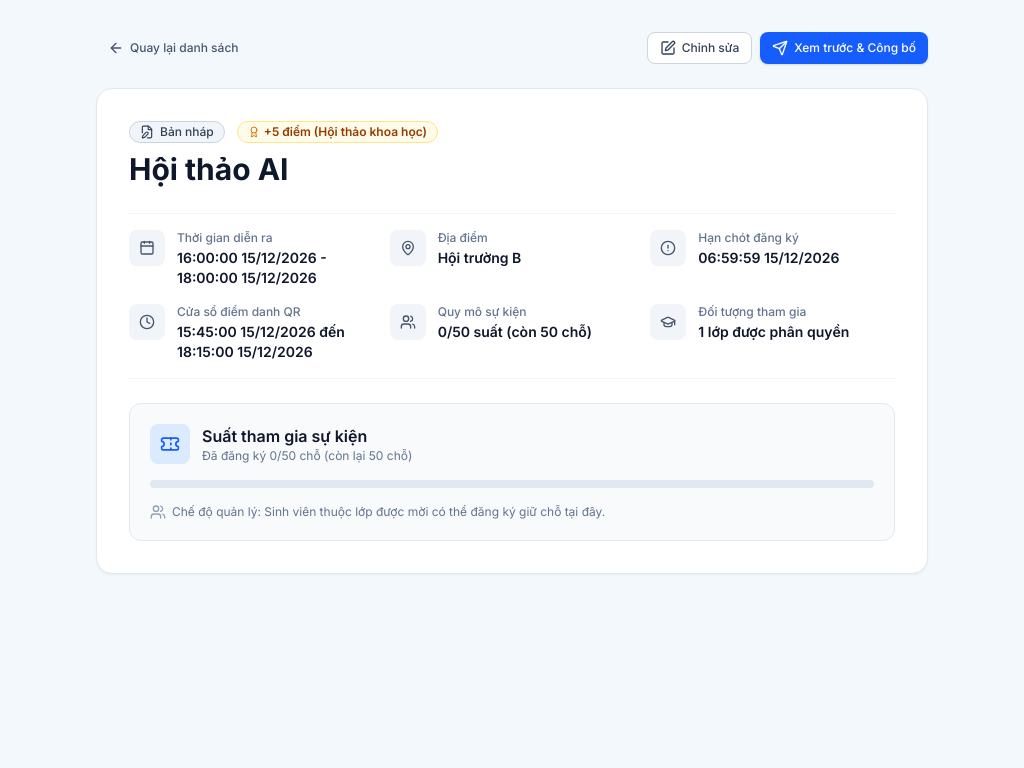
Test: EventDetailPage publish flow [QE-65] › shows "Bản xem trước đã cũ do có sự thay đổi. Vui lòng xem trước lại." when publish is rejected with PREVIEW_OUTDATED
This screenshot has width=1024, height=768.
Click the button "Xem trước & Công bố" at x=844, y=48, box x1=760 y1=32 x2=928 y2=64
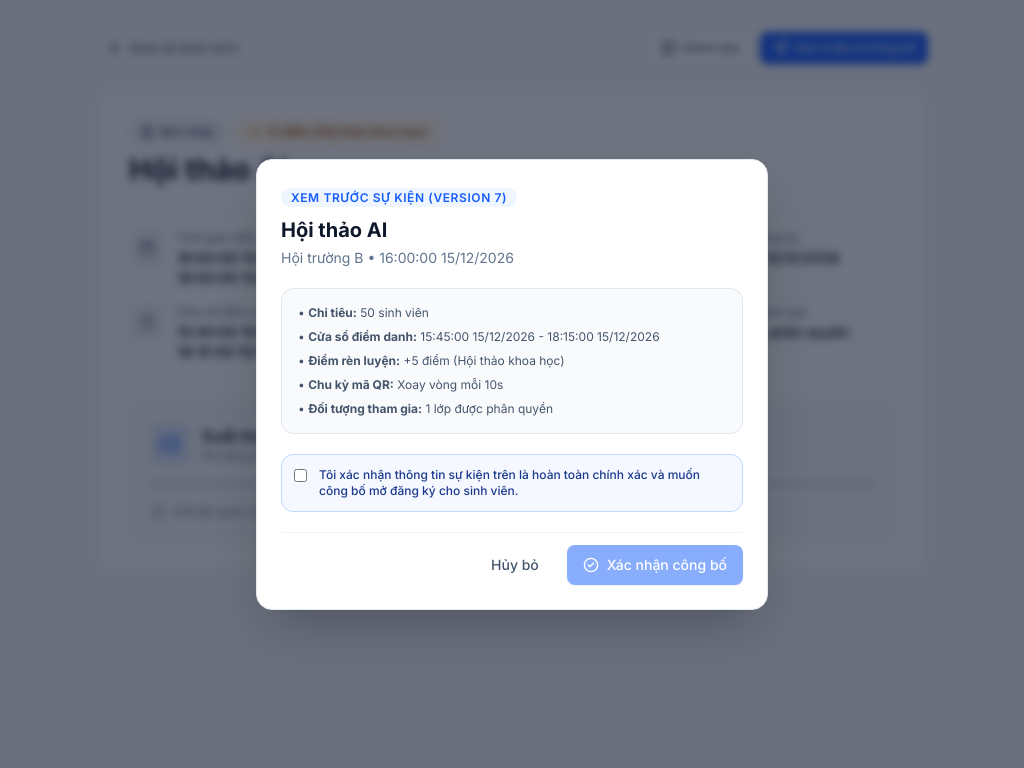
Click the checkbox at x=300, y=475, box x1=294 y1=468 x2=307 y2=482
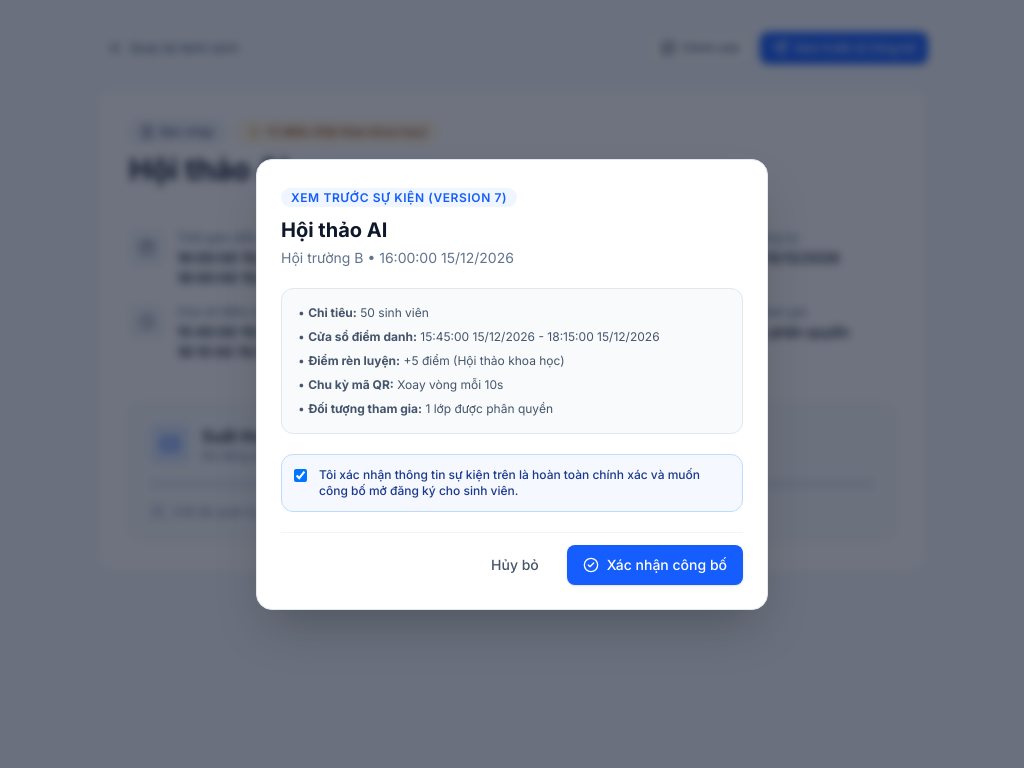
Click the button "Xác nhận công bố" at x=655, y=564, box x1=567 y1=544 x2=743 y2=584
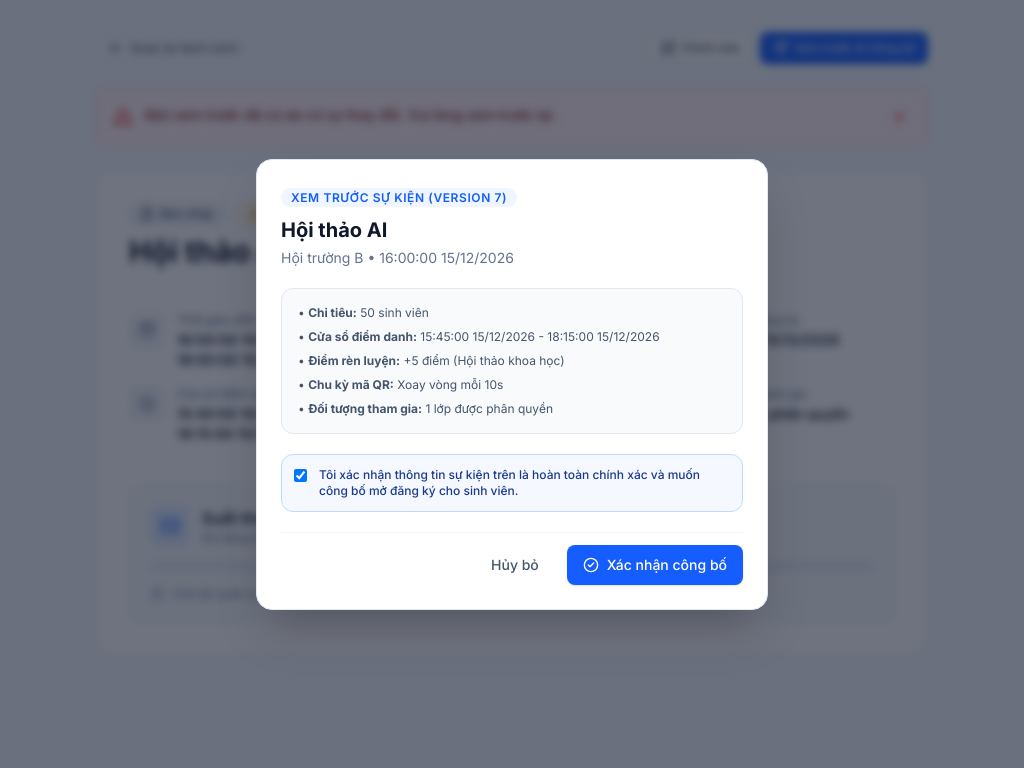
Expected: the message reads "Bản xem trước đã cũ do có sự thay đổi. Vui lòng xem trước lại.", x1=145 y1=106 x2=556 y2=123
